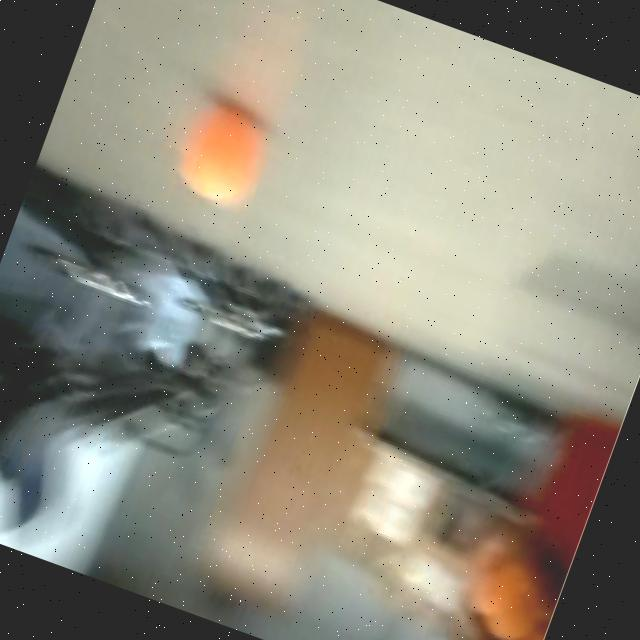ping-pong-ball: (165, 90, 278, 220)
